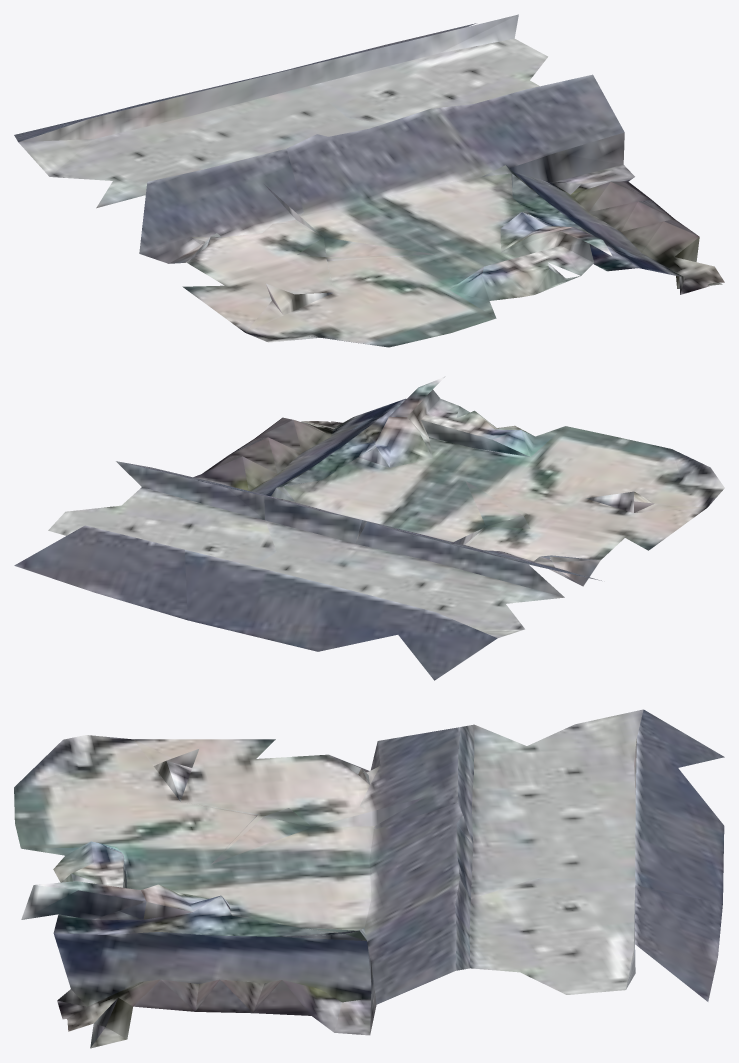
The model's file is Tile_+000_+000.glb.
The picture shows the model from 3 angles, top to bottom: view 1: azimuth 30°, elevation 25°; view 2: azimuth 150°, elevation 25°; view 3: azimuth 270°, elevation 25°; orthographic projection. The views are drawn at different scales.
Visible parts, largest first — view 1: rtc; view 2: rtc; view 3: rtc.
Boxes of the visible parts, left/top/right/bottom form: rtc: left=14, top=14, right=724, bottom=347; rtc: left=14, top=376, right=724, bottom=680; rtc: left=14, top=709, right=724, bottom=1048.
Bounding box in the file's own units: 48.95 × 8.33 × 53.62.
Materials: 1 (1 with a texture image).
